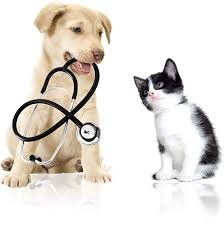cat: (128, 57, 221, 183)
dog: (28, 2, 117, 184)
